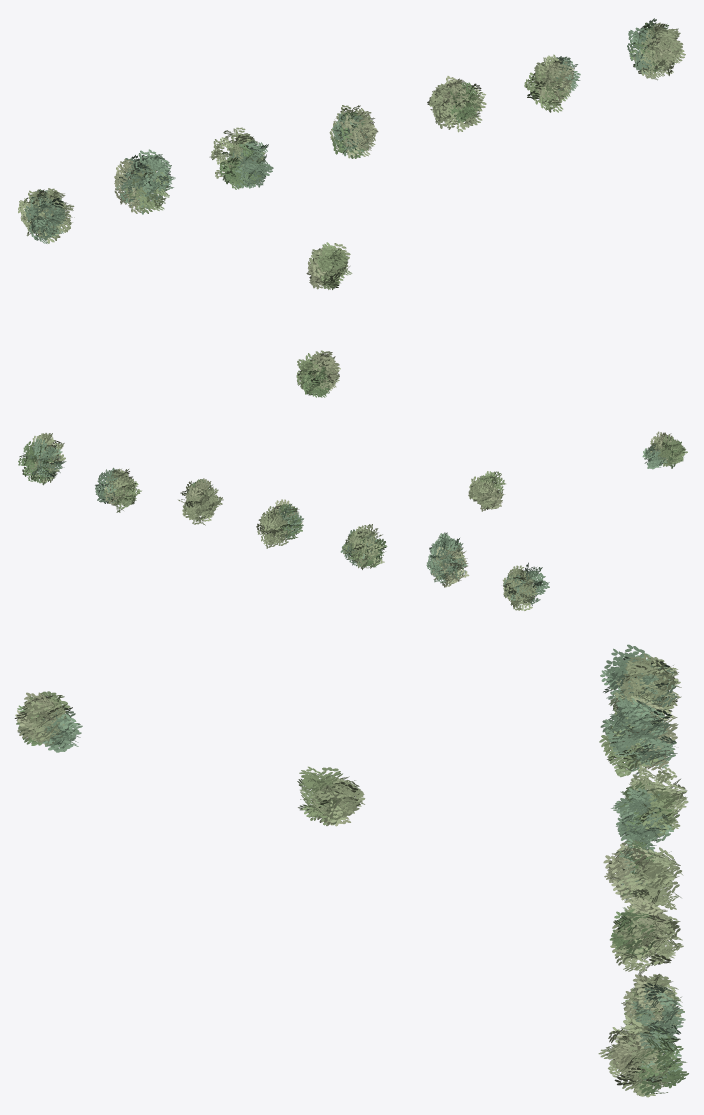
File: campus-tree--2_-4-middle.glb
The picture shows the model from 3 angles, top to bottom: view 1: azimuth 30°, elevation 25°; view 2: azimuth 150°, elevation 25°; view 3: azimuth 270°, elevation 25°; orthographic projection. The views are drawn at different scales.
Parts seen in each view (by area): view 1: Campus leaf canopy; view 2: Campus leaf canopy; view 3: Campus leaf canopy.
Part boxes in pixels (box(x1,y1,x2,y2)): Campus leaf canopy: box(18, 18, 685, 397); Campus leaf canopy: box(18, 431, 687, 610); Campus leaf canopy: box(14, 644, 688, 1097).
Bounding box in the file's own units: 72.02 × 7.88 × 48.48.
Materials: 1 (1 with a texture image).
